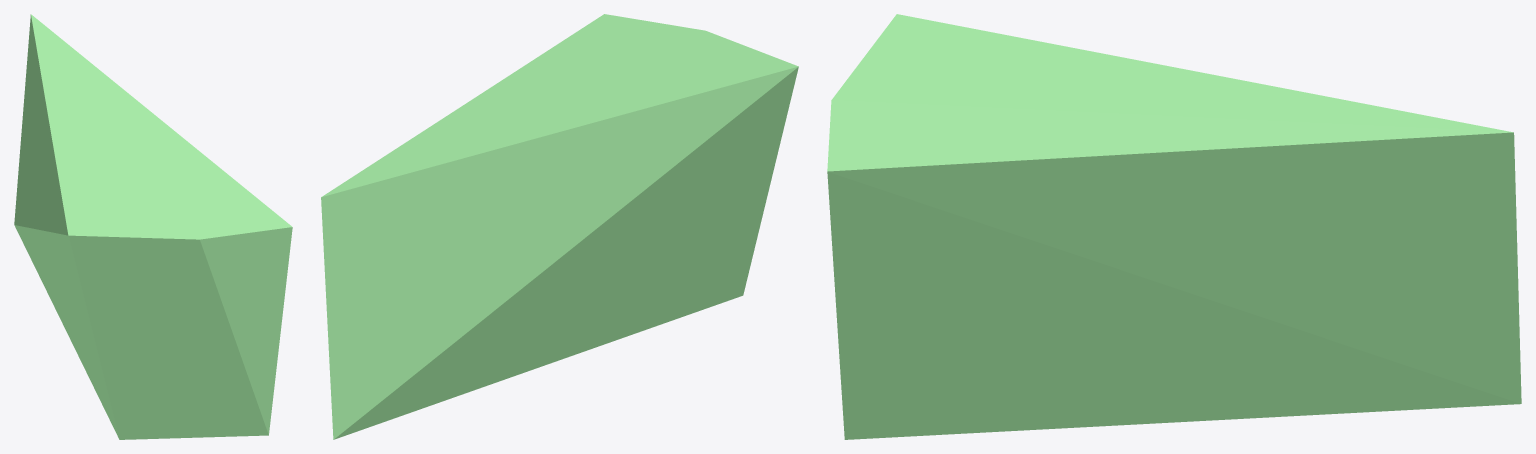
Rendered from UMIRobot_UMIRobot_link_5_convex_coll_76.dae.
The picture shows the model from 3 angles, left to right: view 1: azimuth 30°, elevation 25°; view 2: azimuth 150°, elevation 25°; view 3: azimuth 270°, elevation 25°; orthographic projection. The views are drawn at different scales.
Parts seen in each view (by area): view 1: node; view 2: node; view 3: node.
Part boxes in pixels (<box>): node: <box>14,14,292,439</box>; node: <box>321,14,798,439</box>; node: <box>827,14,1521,439</box>.
Size of the model in its own units: 0.00247 by 0.0028 by 0.00559.
